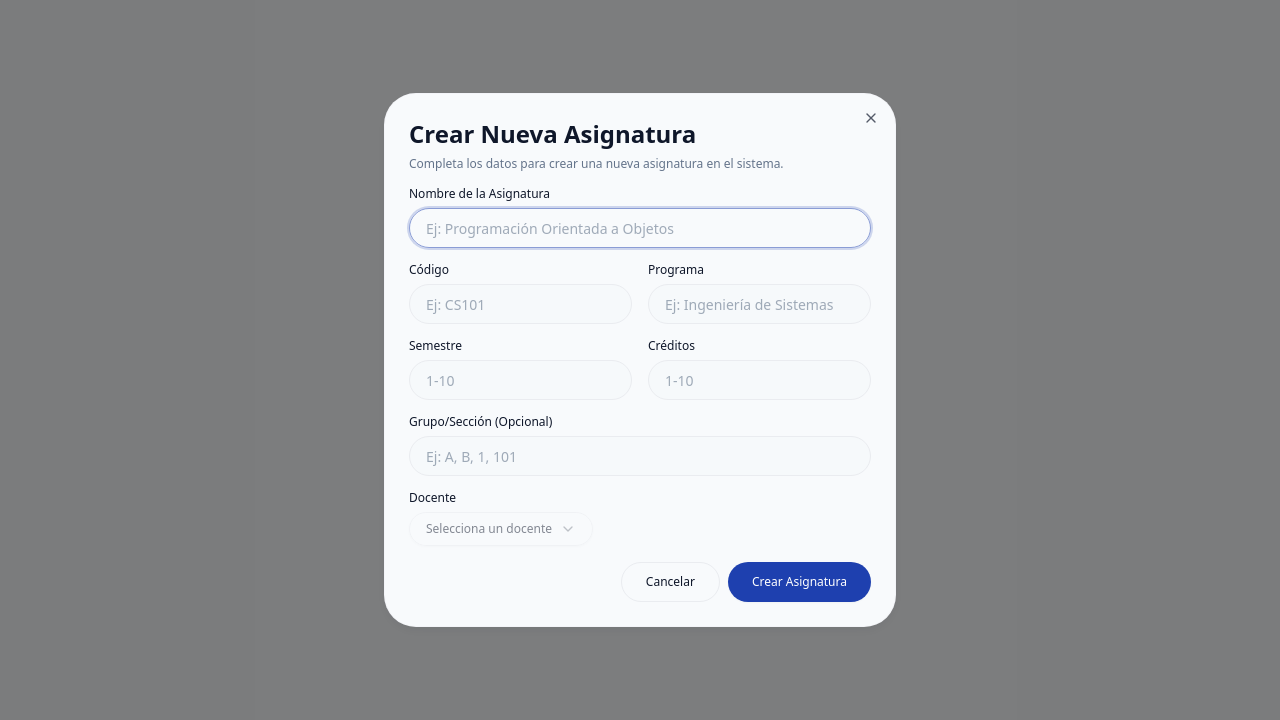
Scenario: CreateSubjectModal › debería validar que el nombre es requerido
Expected: the field labelled "Nombre de la Asignatura" is shown, [409,208,871,248]
Click the button "Crear Asignatura" at {"x": 799, "y": 582}, box [728,562,871,602]
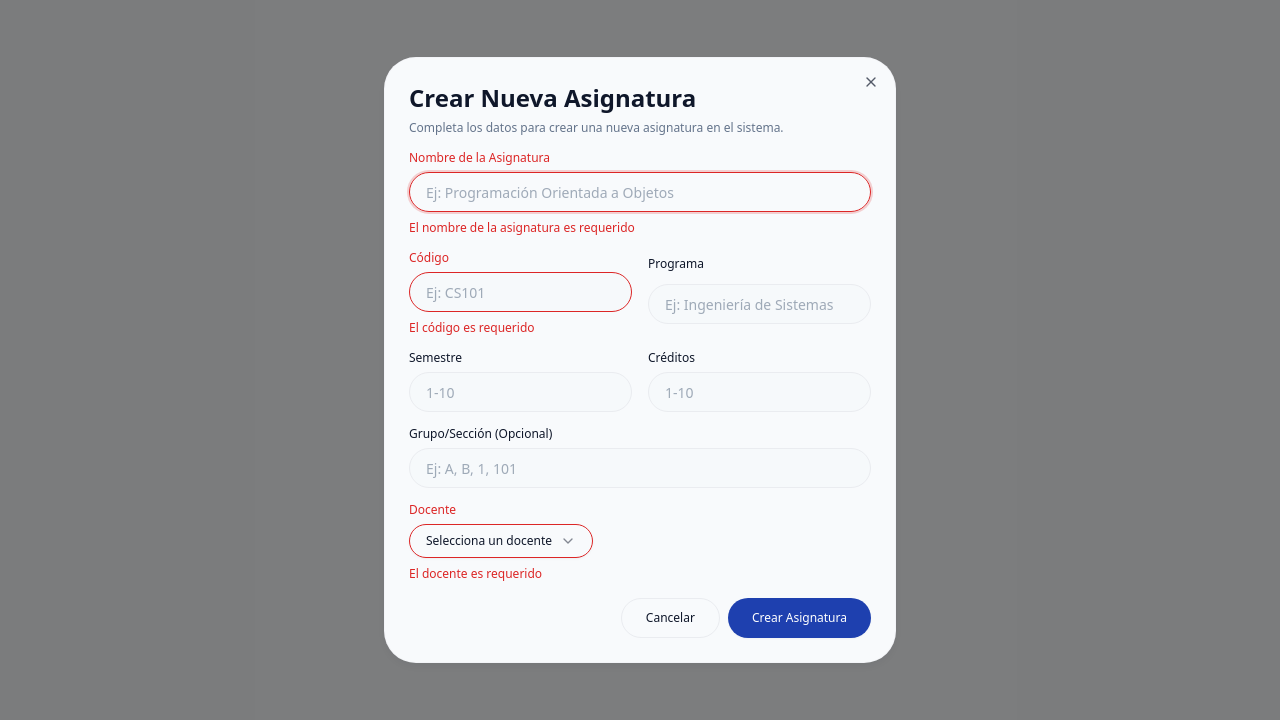
Expected: the text "El nombre de la asignatura es requerido" is shown, [409,219,635,236]
